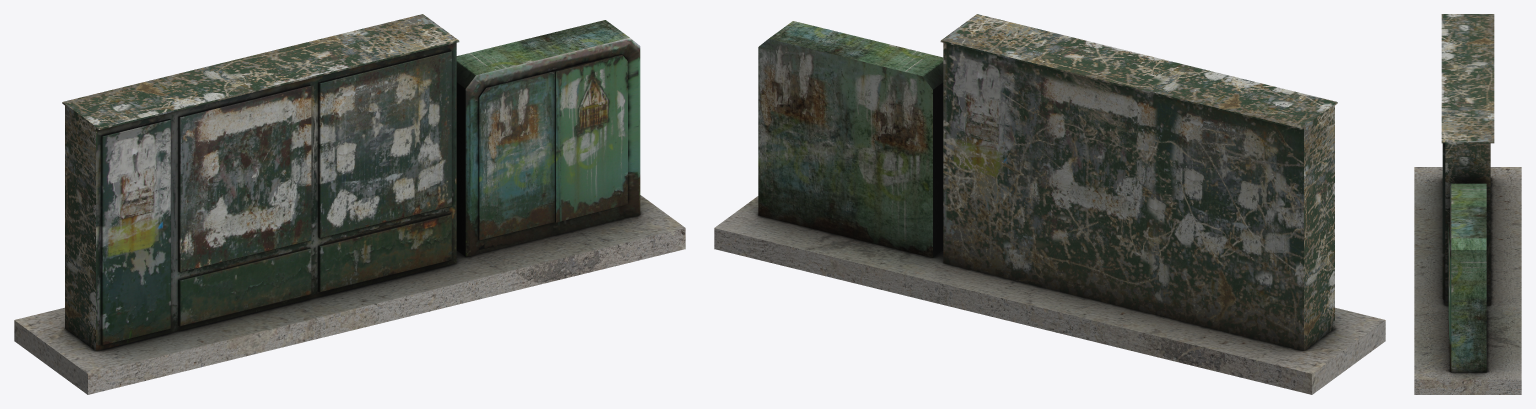
3 views of the same model, side by side, from view 1: azimuth 30°, elevation 25°; view 2: azimuth 150°, elevation 25°; view 3: azimuth 270°, elevation 25° (orthographic). The views are drawn at different scales.
Parts seen in each view (by area): view 1: panel_02; view 2: panel_02; view 3: panel_02.
Boxes of the visible parts, x1,y1,x2,y2 form: panel_02: [14, 14, 685, 394]; panel_02: [714, 14, 1385, 394]; panel_02: [1414, 14, 1521, 394].
Bounding box in the file's own units: 3.98 × 1.56 × 0.85.
1 material, 1 textured.
